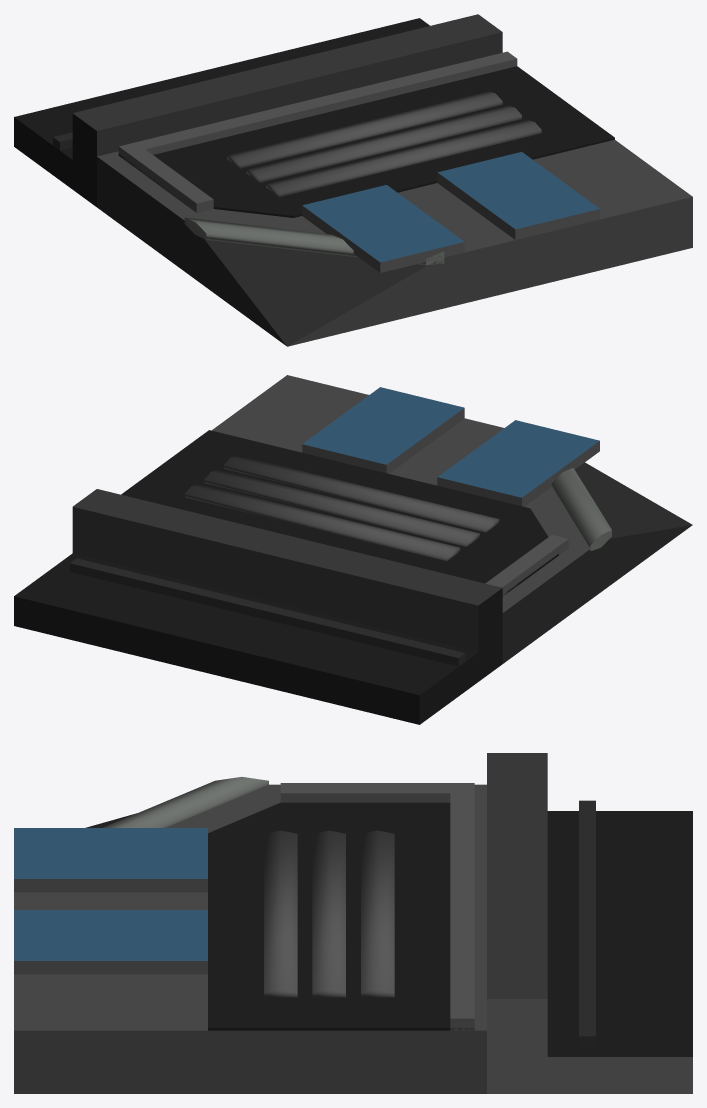
File: newsho-79.glb
The picture shows the model from 3 angles, top to bottom: view 1: azimuth 30°, elevation 25°; view 2: azimuth 150°, elevation 25°; view 3: azimuth 270°, elevation 25°; orthographic projection. The views are drawn at different scales.
Parts seen in each view (by area): view 1: newsho-79; view 2: newsho-79; view 3: newsho-79.
Boxes of the visible parts, left/top/right/bottom form: newsho-79: left=14, top=14, right=692, bottom=346; newsho-79: left=14, top=375, right=692, bottom=724; newsho-79: left=14, top=753, right=692, bottom=1093.
Size of the model in its own units: 2 by 0.36 by 2.33.
